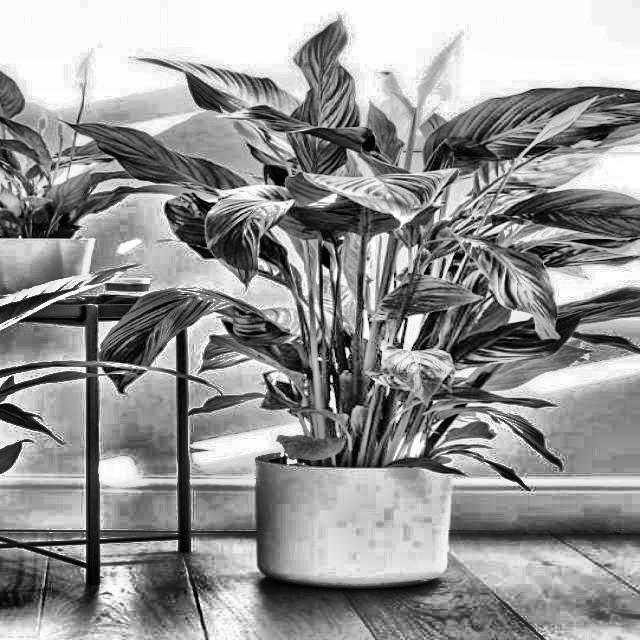plants: (119, 31, 639, 593), (336, 328, 582, 499), (0, 51, 117, 315), (121, 278, 302, 392)
